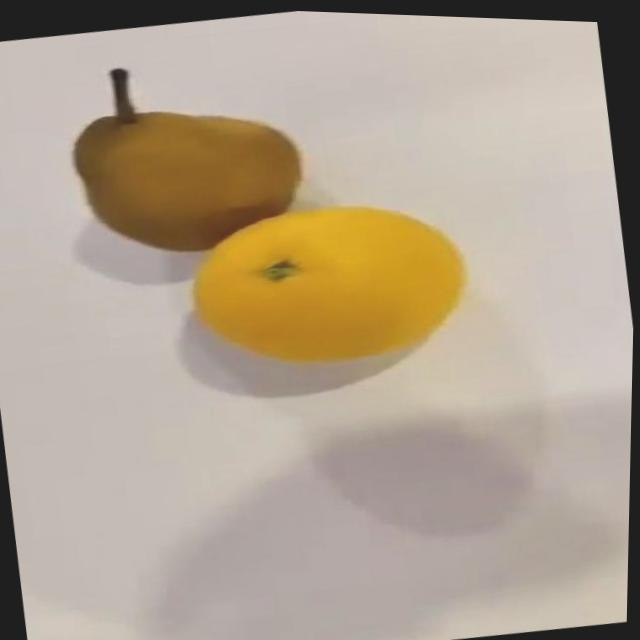Orange: (184, 180, 480, 384)
